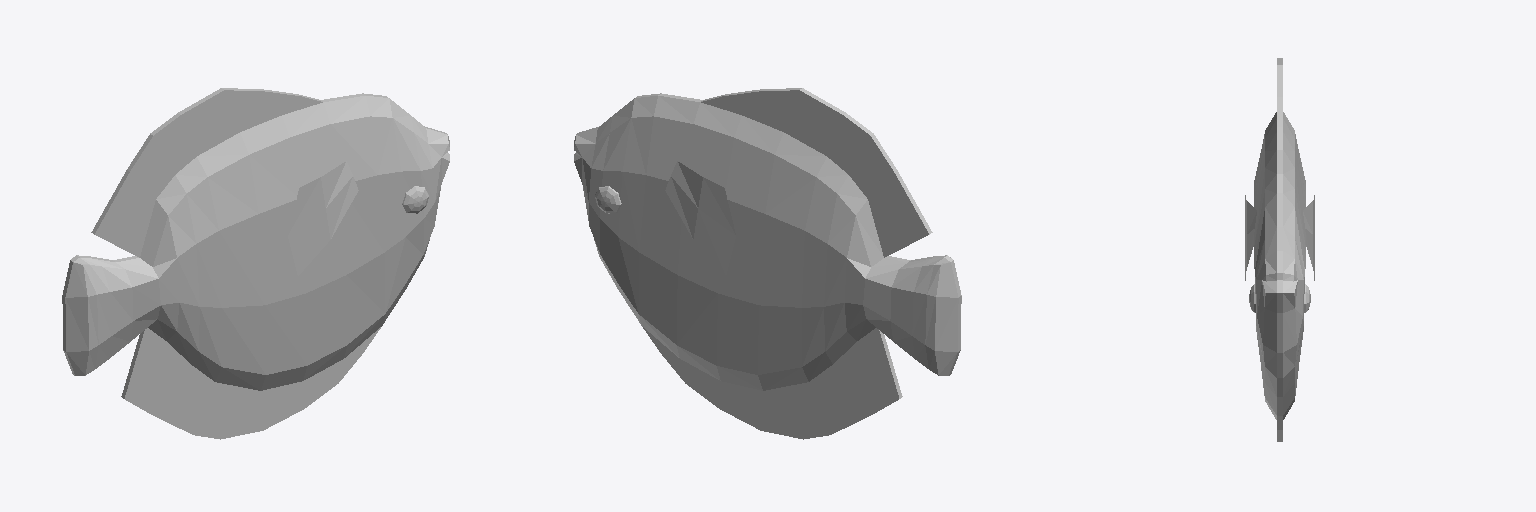
Rendered from fish3.obj.
The picture shows the model from 3 angles: view 1: azimuth 30°, elevation 25°; view 2: azimuth 150°, elevation 25°; view 3: azimuth 270°, elevation 25°; orthographic projection.
Parts seen in each view (by area): view 1: Object_2; view 2: Object_2; view 3: Object_2.
Boxes of the visible parts, x1=… form: Object_2: x1=62, y1=88, x2=449, y2=439; Object_2: x1=574, y1=88, x2=961, y2=439; Object_2: x1=1245, y1=58, x2=1314, y2=441.
Bounding box in the file's own units: 4.55 × 3.96 × 0.7104.